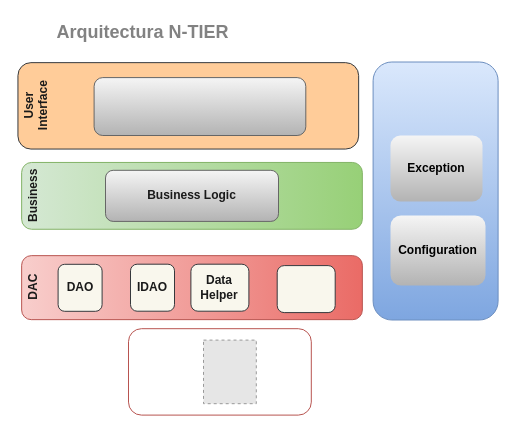
Image size: 516x433. Some labels were removed from this diagram. Grey dashed boxes stand in for pictures. The box of each missing label's shape, as (x1, y1, x2, y2) in pixels:
Data Sources: (128, 328, 311, 415)
DTO: (276, 265, 335, 313)
Framework: (372, 61, 498, 320)
UI Component: (93, 77, 306, 136)
